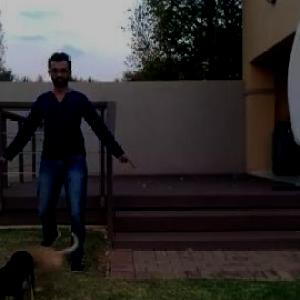land: (5, 54, 129, 268)
